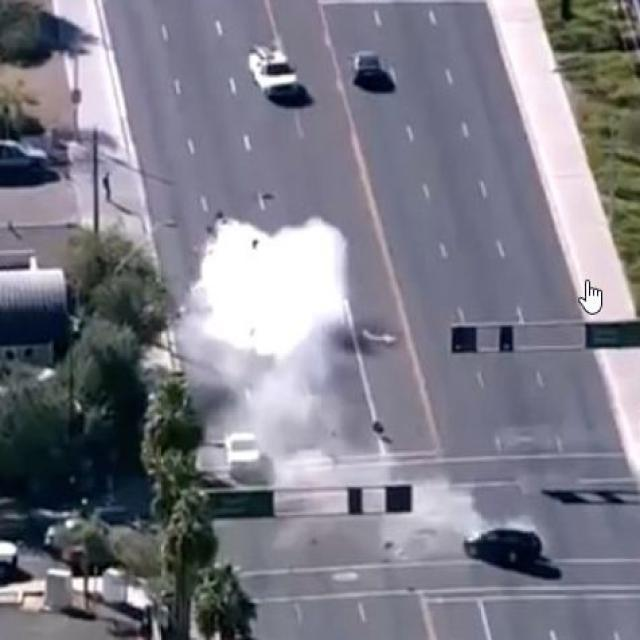traffic_incident: (453, 490, 562, 593)
